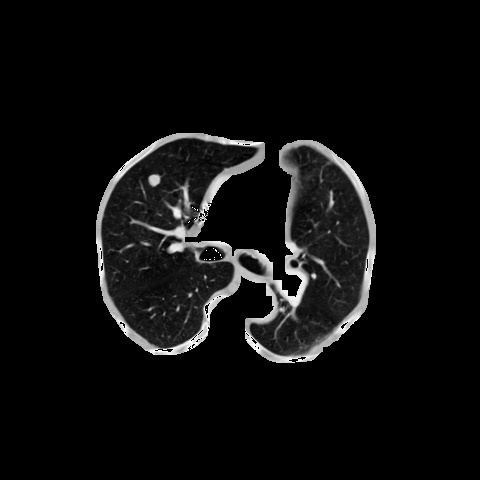PN: (147, 174, 159, 186)
